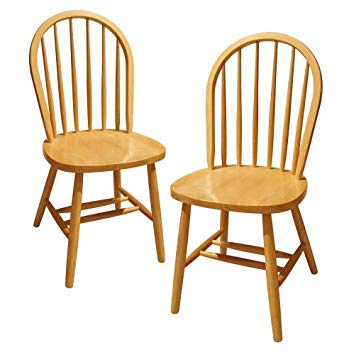chairs: (167, 26, 325, 346), (25, 9, 175, 292)
